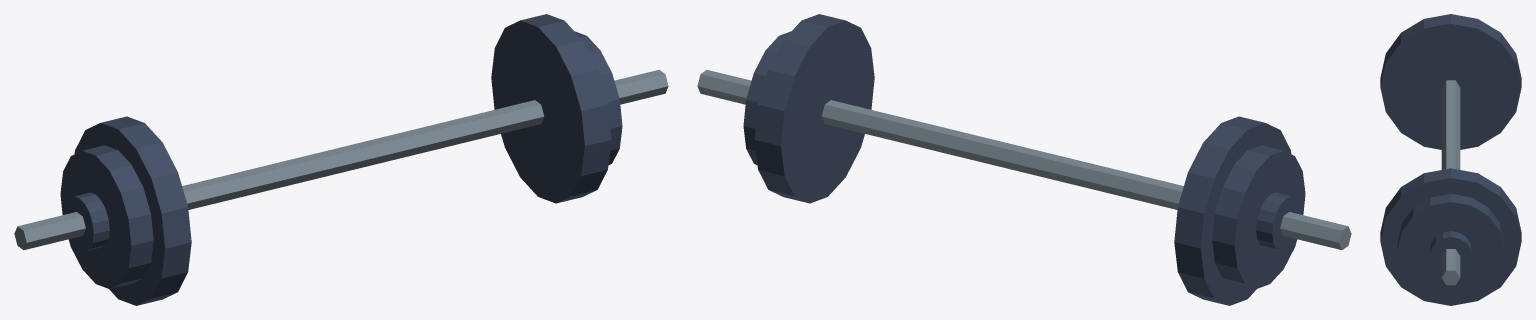
File: 6 rod.fbx
The picture shows the model from 3 angles, left to right: view 1: azimuth 30°, elevation 25°; view 2: azimuth 150°, elevation 25°; view 3: azimuth 270°, elevation 25°; orthographic projection. The views are drawn at different scales.
Parts seen in each view (by area): view 1: 5 rod; view 2: 5 rod; view 3: 5 rod.
Boxes of the visible parts, x1,y1,x2,y2 form: 5 rod: [14, 14, 668, 305]; 5 rod: [697, 14, 1351, 305]; 5 rod: [1380, 14, 1521, 305].
Size of the model in its own units: 89.11 by 22.53 by 22.53.
